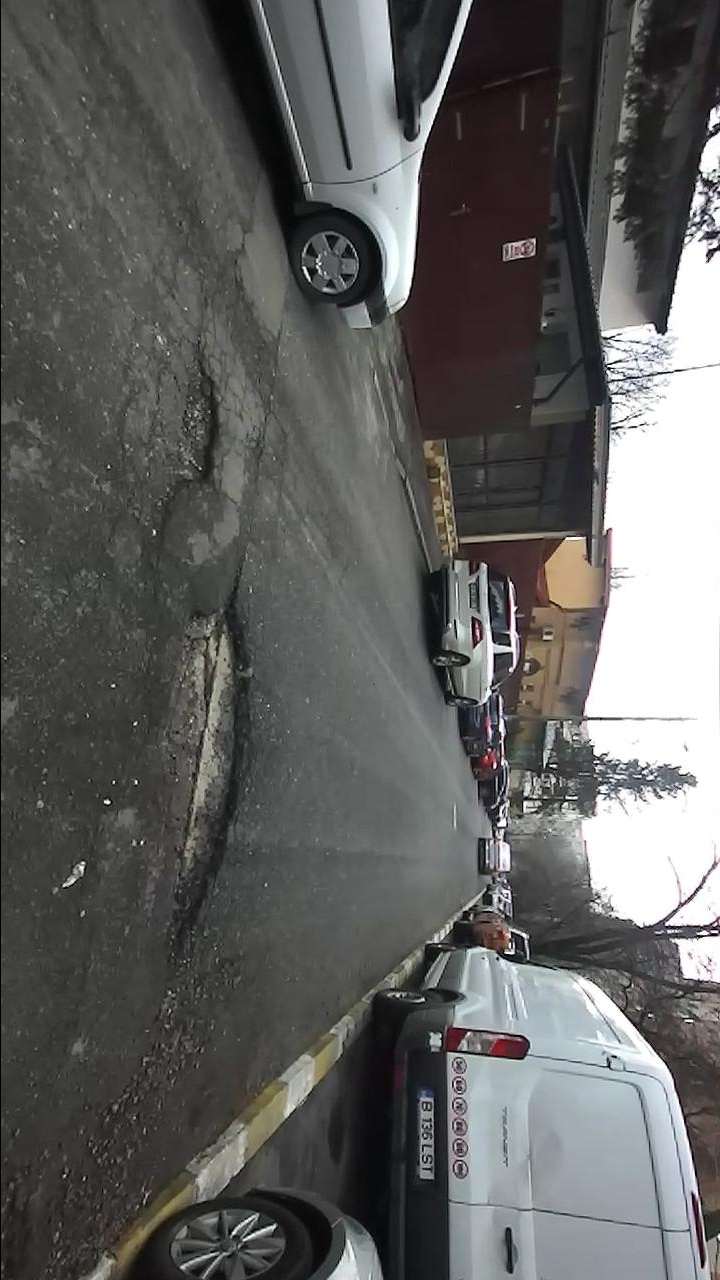pothole: (142, 581, 255, 982), (160, 334, 228, 518)
